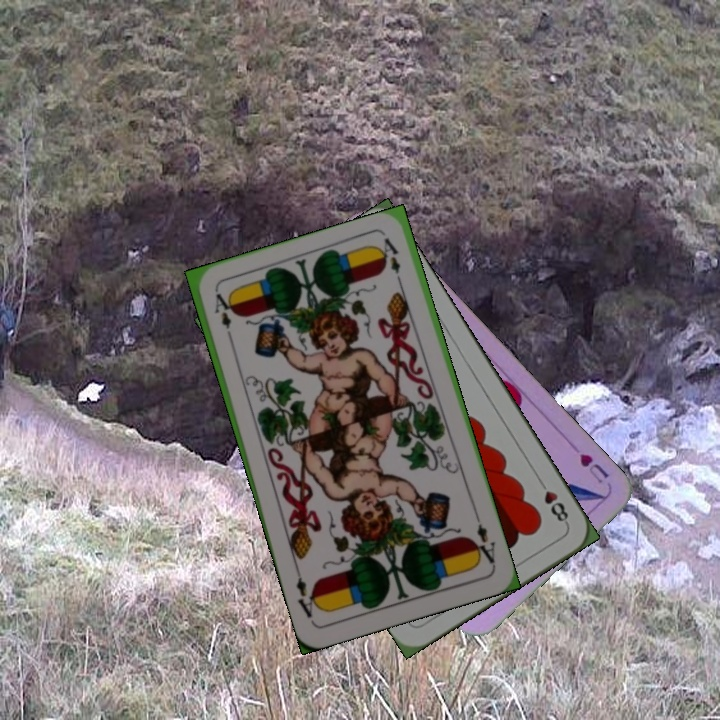EA: (468, 511, 498, 568), (210, 289, 236, 345)
H8: (534, 475, 571, 528)
HU: (575, 449, 612, 486)
